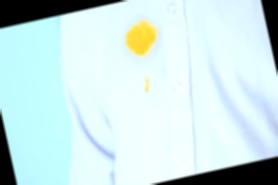mustard: (120, 21, 158, 55), (140, 76, 153, 94)
